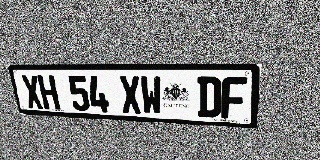4: (86, 75, 109, 112)
5: (67, 75, 91, 111)
D: (198, 77, 221, 118)
F: (221, 77, 247, 119)
H: (37, 75, 61, 110)
W: (140, 76, 163, 115)
X: (119, 76, 142, 114), (20, 75, 44, 109)
